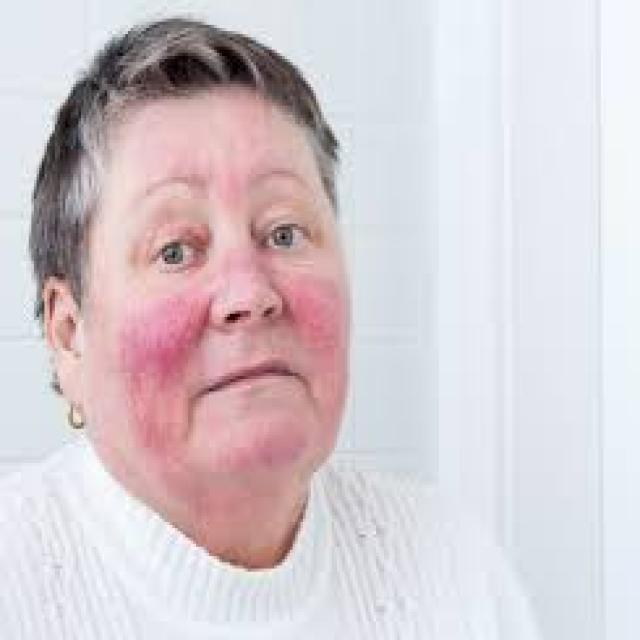Rosacea: (126, 288, 208, 460), (282, 277, 344, 355)
